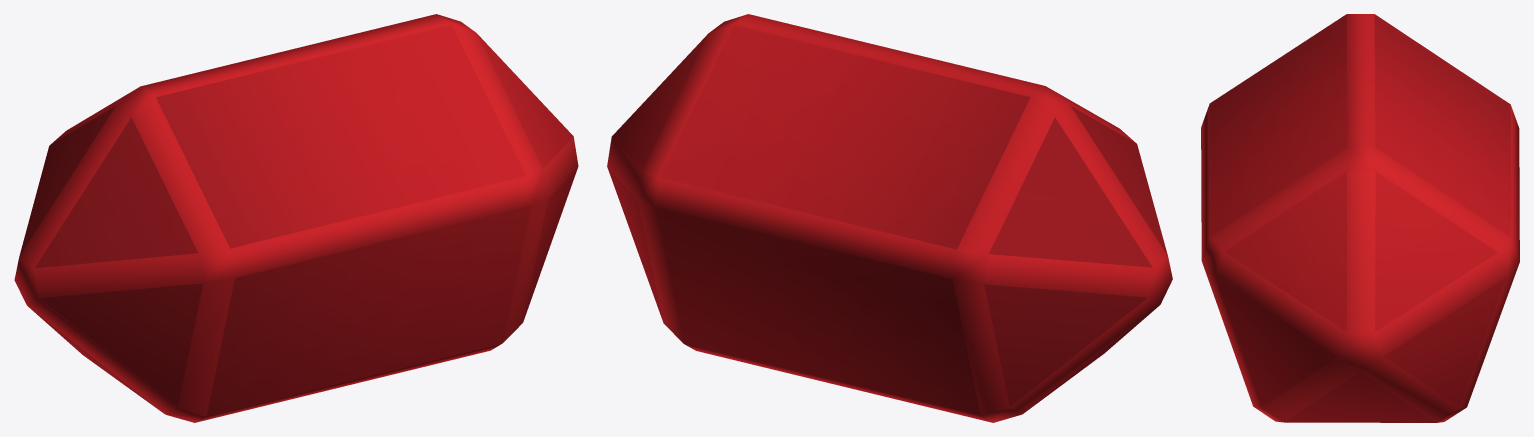
Rendered from christal_ruby_4.fbx.
3 views of the same model, side by side, from view 1: azimuth 30°, elevation 25°; view 2: azimuth 150°, elevation 25°; view 3: azimuth 270°, elevation 25° (orthographic). The views are drawn at different scales.
Parts seen in each view (by area): view 1: christal_ruby_4; view 2: christal_ruby_4; view 3: christal_ruby_4.
Part boxes in pixels (x1,y1,x2,y2): christal_ruby_4: (14,14,578,422); christal_ruby_4: (607,14,1172,422); christal_ruby_4: (1201,14,1519,422).
Bounding box in the file's own units: 64.69 × 34.12 × 35.88.
1 material, 1 textured.
